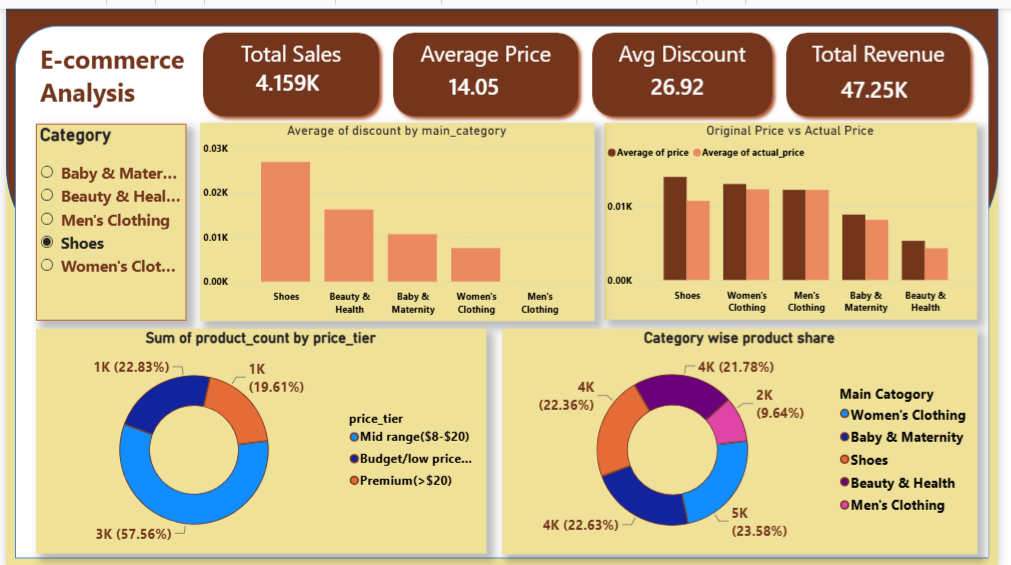

Layout of this report page (visuals, bound fields, positions):
{"tool":"powerbi","page":{"name":"Page 1","canvas":[1280,720],"ordinal":0},"visuals":[{"type":"shape","box":[0,0,1280,334.3],"z":0},{"type":"shape","box":[11.8,21.8,1256.5,687],"z":1000},{"type":"textbox","box":[38.6,37,233.5,110.9],"z":2000},{"type":"shape","box":[245.2,21.8,245.2,126],"z":3000},{"type":"shape","box":[490.5,21.8,257,126],"z":4000},{"type":"cardVisual","fields":{"Data":["Count(public clean_ecommerce_products.product_name)"]},"box":[292.3,57.1,149.5,72.2],"z":5000},{"type":"shape","box":[747.5,21.8,250.3,126],"z":6000},{"type":"shape","box":[997.8,21.8,255.3,126],"z":7000},{"type":"cardVisual","fields":{"Data":["Avg(public clean_ecommerce_products.price)"]},"box":[542.6,68.9,134.4,60.5],"z":8000},{"type":"cardVisual","fields":{"Data":["Avg(public clean_ecommerce_products.discount)"]},"box":[802.9,68.9,132.7,60.5],"z":9000},{"type":"cardVisual","fields":{"Data":["Sum(public clean_ecommerce_products.actual_price)"]},"box":[1048.2,57.1,164.6,90.7],"z":10000},{"type":"listSlicer","title":"Category","fields":{"Values":["public clean_ecommerce_products.main_category"]},"box":[39,148.9,193.7,254.5],"z":11000},{"type":"clusteredColumnChart","title":"Original Price vs Actual Price","fields":{"Category":["public clean_ecommerce_products.main_category"],"Y":["Avg(public clean_ecommerce_products.price)","Avg(public clean_ecommerce_products.actual_price)"]},"box":[772.3,147.5,481.2,253.9],"z":12000},{"type":"columnChart","fields":{"Category":["public clean_ecommerce_products.main_category"],"Y":["Avg(public clean_ecommerce_products.discount)"]},"box":[250.1,147.5,508.9,255.9],"z":13000},{"type":"donutChart","title":"Category wise product share","fields":{"Y":["Sum(public view_discount_summary.product_count)"],"Category":["public view_discount_summary.main_category"]},"box":[640,413.2,613.1,290.6],"z":14000},{"type":"donutChart","fields":{"Category":["public view_price_value_summary.price_tier"],"Y":["Sum(public view_price_value_summary.product_count)"]},"box":[38.7,412.9,580.6,290.3],"z":15000}]}

Visuals, with their boxes in screenshot pixels (x1, y1, x2, y2), scaled from the page's 1280x720 canvas onto the 1011x565 screenshot:
shape: box=[0, 0, 1010, 262]
shape: box=[9, 17, 1002, 556]
textbox: box=[30, 29, 215, 116]
shape: box=[194, 17, 387, 116]
shape: box=[387, 17, 590, 116]
cardVisual - Count(public clean_ecommerce_products.product_name): box=[231, 45, 349, 101]
shape: box=[590, 17, 788, 116]
shape: box=[788, 17, 990, 116]
cardVisual - Avg(public clean_ecommerce_products.price): box=[429, 54, 535, 102]
cardVisual - Avg(public clean_ecommerce_products.discount): box=[634, 54, 739, 102]
cardVisual - Sum(public clean_ecommerce_products.actual_price): box=[828, 45, 958, 116]
"Category" listSlicer: box=[31, 117, 184, 317]
"Original Price vs Actual Price" clusteredColumnChart: box=[610, 116, 990, 315]
columnChart - public clean_ecommerce_products.main_category x Avg(public clean_ecommerce_products.discount): box=[198, 116, 599, 317]
"Category wise product share" donutChart: box=[506, 324, 990, 552]
donutChart - public view_price_value_summary.price_tier x Sum(public view_price_value_summary.product_count): box=[31, 324, 489, 552]
